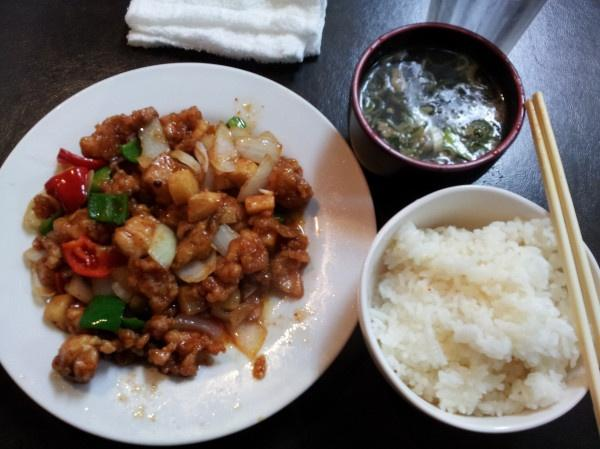plate: (359, 185, 587, 432)
rice: (368, 218, 580, 416)
